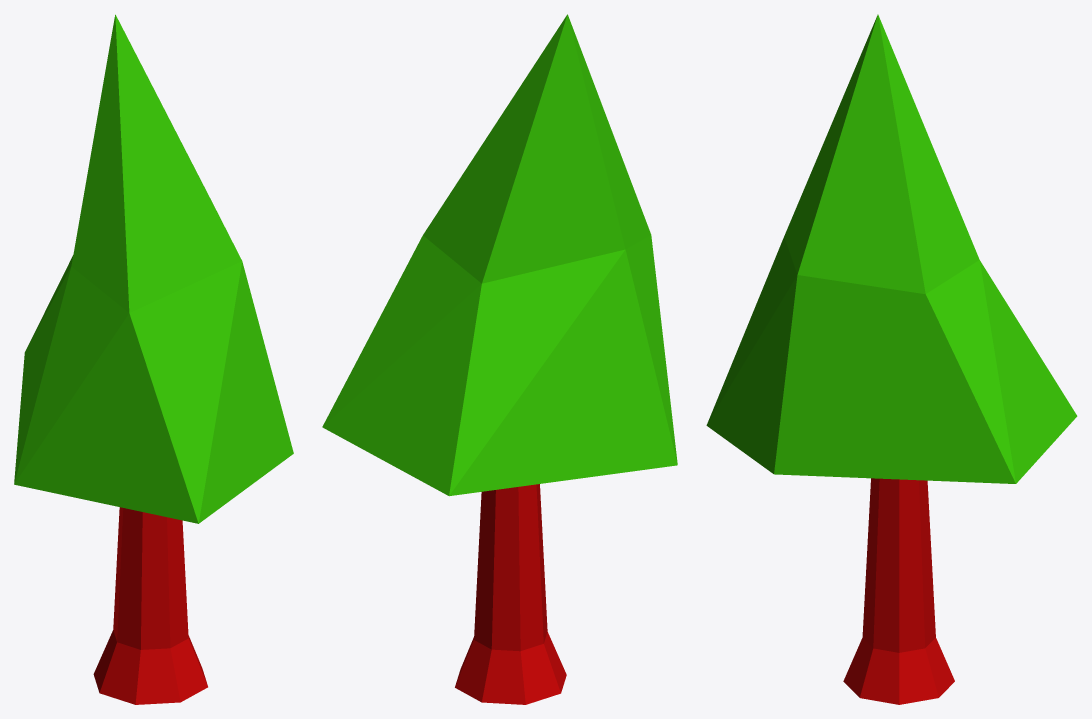
Rendered from tree6.fbx.
3 renders of one model, left to right at view 1: azimuth 30°, elevation 25°; view 2: azimuth 150°, elevation 25°; view 3: azimuth 270°, elevation 25°, orthographic. The views are drawn at different scales.
Parts seen in each view (by area): view 1: Cylinder.001, Cylinder; view 2: Cylinder.001, Cylinder; view 3: Cylinder.001, Cylinder.
Part boxes in pixels (bbox=[...]): Cylinder.001: bbox=[14, 14, 293, 523]; Cylinder: bbox=[93, 507, 207, 704]; Cylinder.001: bbox=[322, 14, 677, 496]; Cylinder: bbox=[455, 484, 566, 704]; Cylinder.001: bbox=[706, 14, 1077, 483]; Cylinder: bbox=[843, 478, 954, 704].
Size of the model in its own units: 141 by 325 by 169.
